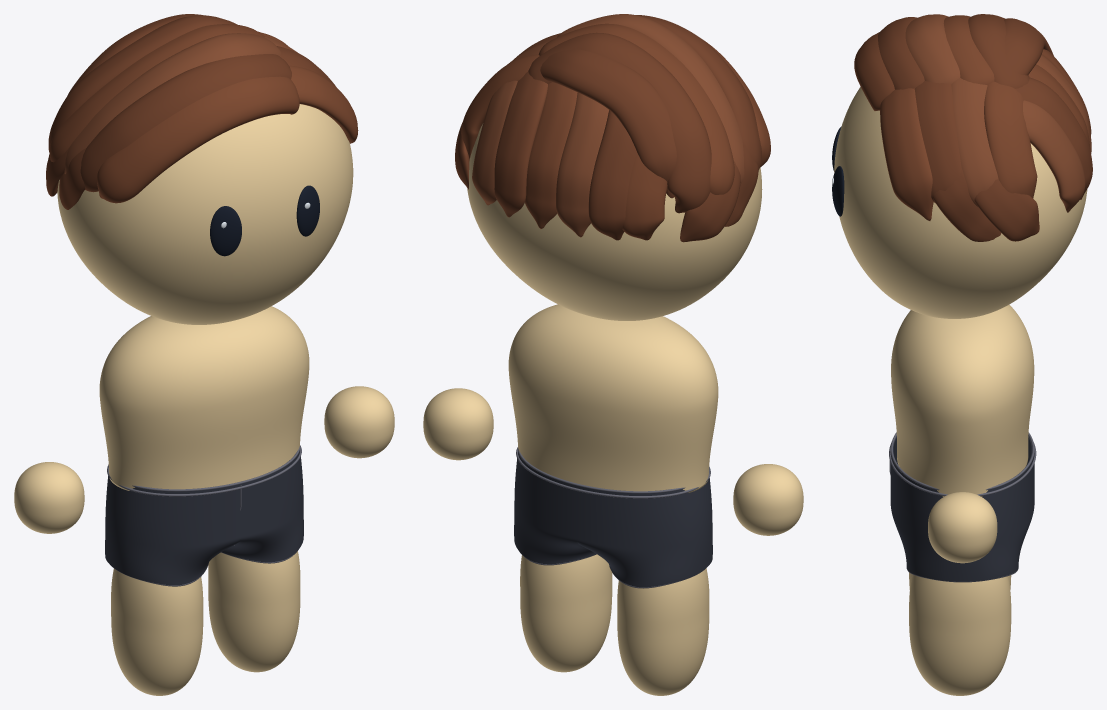
The model's file is Masculine-base.glb.
3 views of the same model, side by side, from view 1: azimuth 30°, elevation 25°; view 2: azimuth 150°, elevation 25°; view 3: azimuth 270°, elevation 25° (orthographic).
Visible parts, largest first — view 1: Skin / soft oval head, Skin / rounded torso, Clothing / fixed shorts, Skin / leg blob -1, Skin / leg blob 1, Hair / Side part main 0, Hair / Side part main 1, Hair / Side part main 2, Skin / orb hand 1, Skin / orb hand -1, Hair / Side part main 3, Hair / Side part main 4 (+7 smaller); view 2: Skin / rounded torso, Skin / soft oval head, Clothing / fixed shorts, Skin / leg blob -1, Skin / leg blob 1, Hair / Side part crown, Hair / Side part main 4, Hair / Side part nape 2, Hair / Side part nape 4, Hair / Side part main 3, Hair / Side part nape 3, Skin / orb hand 1 (+12 smaller); view 3: Skin / soft oval head, Skin / rounded torso, Skin / leg blob 1, Clothing / fixed shorts, Hair / Side part short 0, Hair / Side part short 3, Skin / orb hand 1, Hair / Side part short 1, Hair / Side part short 2, Hair / Side part nape 5, Hair / Side part main 2, Hair / Side part low 1 1 (+12 smaller).
Boxes of the visible parts, <box> form: Skin / soft oval head: <box>57,104,353,324</box>; Skin / rounded torso: <box>99,306,309,490</box>; Clothing / fixed shorts: <box>105,450,303,585</box>; Skin / leg blob -1: <box>111,568,203,695</box>; Skin / leg blob 1: <box>208,551,300,672</box>; Hair / Side part main 0: <box>97,76,299,203</box>; Hair / Side part main 1: <box>80,54,291,192</box>; Hair / Side part main 2: <box>64,33,280,173</box>; Skin / orb hand 1: <box>324,386,394,458</box>; Skin / orb hand -1: <box>14,462,84,533</box>; Hair / Side part main 3: <box>49,24,264,162</box>; Hair / Side part main 4: <box>48,15,236,152</box>; Skin / rounded torso: <box>508,304,718,492</box>; Skin / soft oval head: <box>467,123,762,320</box>; Clothing / fixed shorts: <box>514,452,712,587</box>; Skin / leg blob -1: <box>617,568,709,695</box>; Skin / leg blob 1: <box>520,554,612,672</box>; Hair / Side part crown: <box>540,49,676,198</box>; Hair / Side part main 4: <box>528,32,711,213</box>; Hair / Side part nape 2: <box>556,92,608,237</box>; Hair / Side part nape 4: <box>494,71,547,217</box>; Hair / Side part main 3: <box>538,23,734,194</box>; Hair / Side part nape 3: <box>525,82,577,228</box>; Skin / orb hand 1: <box>423,388,493,460</box>; Skin / soft oval head: <box>834,87,1087,318</box>; Skin / rounded torso: <box>891,304,1034,496</box>; Skin / leg blob 1: <box>909,574,1011,695</box>; Clothing / fixed shorts: <box>890,436,1034,581</box>; Hair / Side part short 0: <box>880,88,933,220</box>; Hair / Side part short 3: <box>984,81,1037,198</box>; Skin / orb hand 1: <box>928,492,997,563</box>; Hair / Side part short 1: <box>914,81,961,203</box>; Hair / Side part short 2: <box>951,78,998,206</box>; Hair / Side part nape 5: <box>1023,100,1085,212</box>; Hair / Side part main 2: <box>905,14,960,84</box>; Hair / Side part low 1 1: <box>974,179,1039,241</box>.
Size of the model in its own units: 1.35 by 2.27 by 0.8319.
